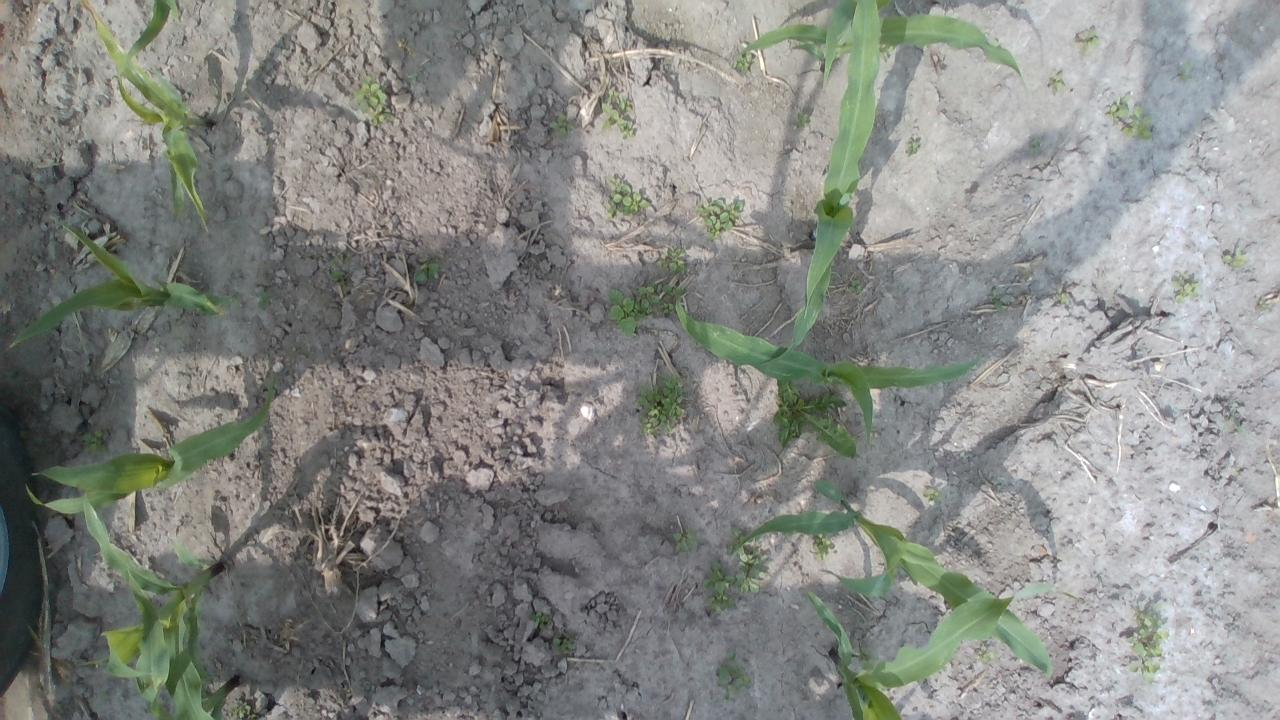Maize: (732, 479, 1052, 676), (672, 296, 985, 443), (770, 0, 884, 362), (804, 583, 1080, 720), (80, 493, 224, 720), (25, 384, 272, 514), (79, 0, 212, 232), (10, 223, 225, 346), (739, 12, 1023, 74), (820, 0, 890, 82), (133, 671, 242, 720), (124, 0, 180, 70)
Weeds: (775, 376, 858, 459), (606, 280, 686, 337), (1124, 610, 1168, 685), (636, 374, 688, 436), (1104, 96, 1152, 140), (695, 197, 744, 240), (350, 77, 392, 127), (606, 176, 652, 219), (702, 559, 738, 613), (602, 88, 637, 140), (718, 650, 752, 703), (734, 554, 770, 594), (726, 527, 760, 562), (1172, 270, 1200, 305), (656, 246, 688, 272), (671, 528, 699, 554), (82, 429, 108, 456), (1222, 247, 1250, 272), (213, 292, 242, 316), (413, 262, 443, 284), (550, 114, 576, 138), (814, 533, 832, 561), (860, 646, 879, 670), (990, 287, 1007, 313), (550, 638, 576, 654), (228, 703, 251, 720), (734, 52, 752, 73), (792, 111, 811, 130), (1046, 73, 1064, 92), (848, 278, 866, 296), (1054, 288, 1072, 305), (329, 266, 346, 283), (922, 488, 942, 502), (256, 289, 272, 306), (1028, 136, 1042, 155), (1257, 300, 1273, 314), (1084, 32, 1098, 48), (1182, 58, 1192, 80), (879, 44, 896, 56), (976, 650, 993, 661), (533, 610, 544, 626), (407, 71, 419, 85), (906, 142, 920, 154), (1229, 414, 1239, 430), (99, 690, 112, 702), (144, 702, 152, 713)
